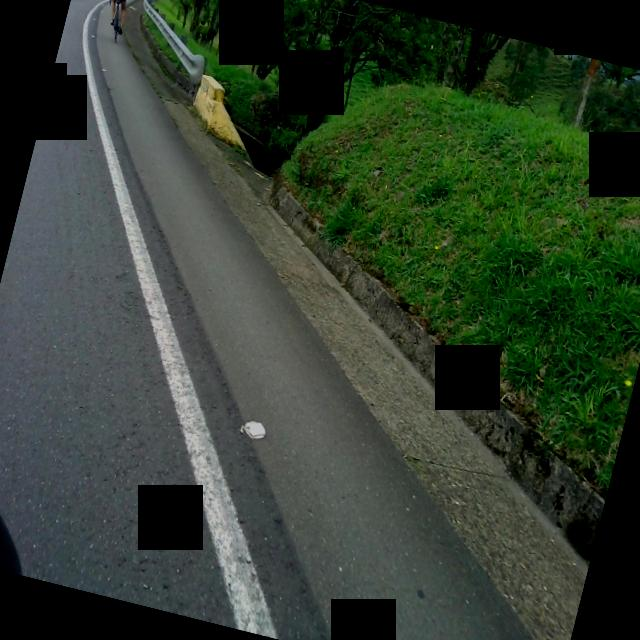DITCH: (0, 0, 640, 640), (0, 65, 640, 640)
